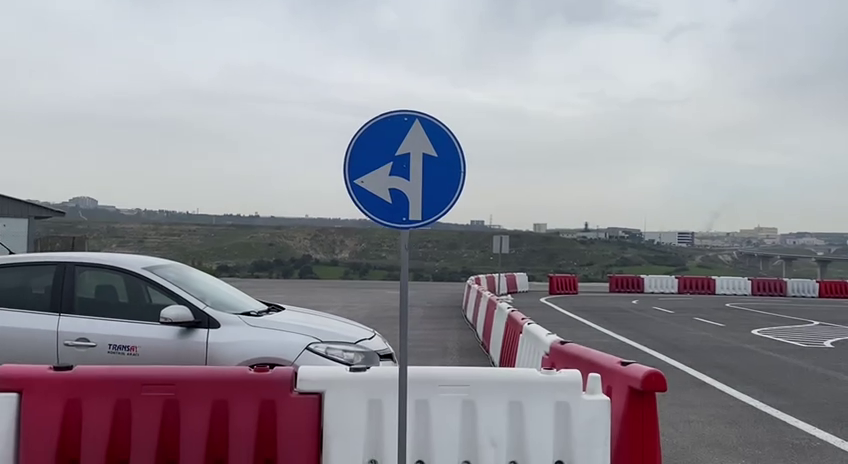forwardAndLeft: (340, 106, 469, 233)
